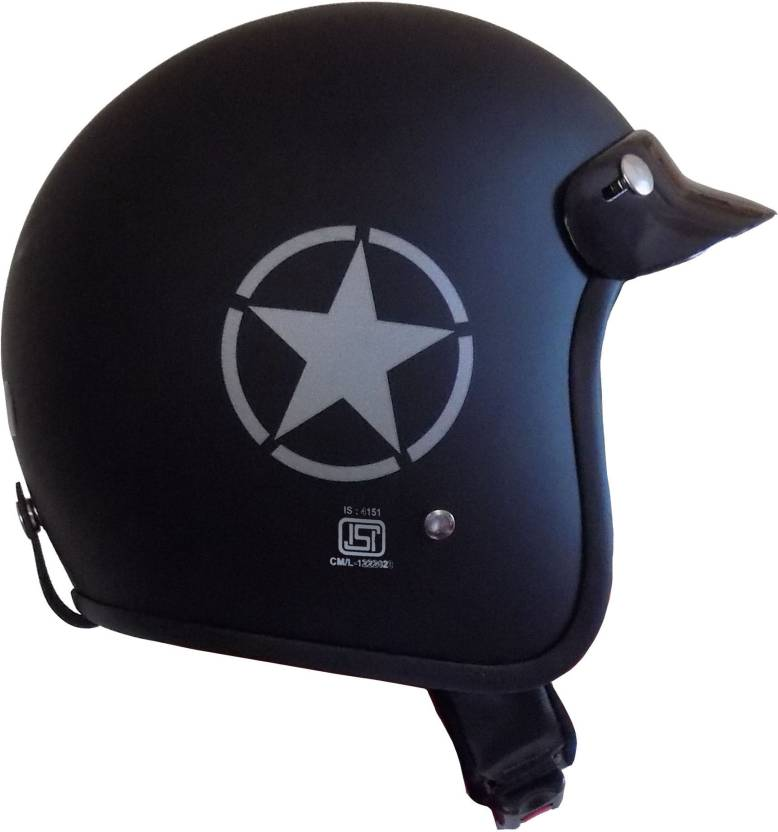with_helmet: (3, 1, 777, 692)
